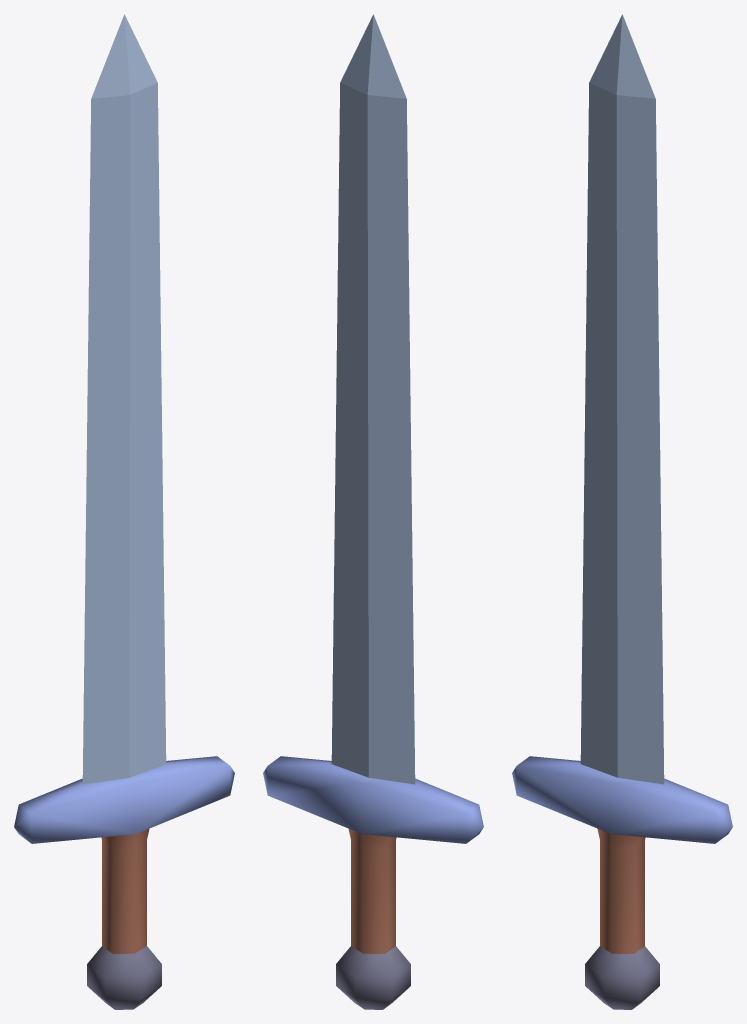
The model's file is sword.glb.
3 renders of one model, left to right at view 1: azimuth 30°, elevation 25°; view 2: azimuth 150°, elevation 25°; view 3: azimuth 330°, elevation 25°, orthographic.
Visible parts, largest first — view 1: Blade, Parry, Grip, Pommel; view 2: Blade, Parry, Grip, Pommel; view 3: Blade, Parry, Grip, Pommel.
Boxes of the visible parts, box(x1,y1,x2,y2) form: Blade: box(82, 14, 166, 784); Parry: box(14, 756, 234, 843); Grip: box(101, 828, 149, 953); Pommel: box(87, 946, 161, 1009); Blade: box(331, 14, 415, 784); Parry: box(263, 756, 483, 843); Grip: box(348, 828, 396, 953); Pommel: box(336, 946, 410, 1009); Blade: box(580, 14, 664, 784); Parry: box(512, 756, 732, 843); Grip: box(597, 828, 645, 953); Pommel: box(585, 946, 659, 1009).
Bounding box in the file's own units: 0.2696 × 1.15 × 0.075.
